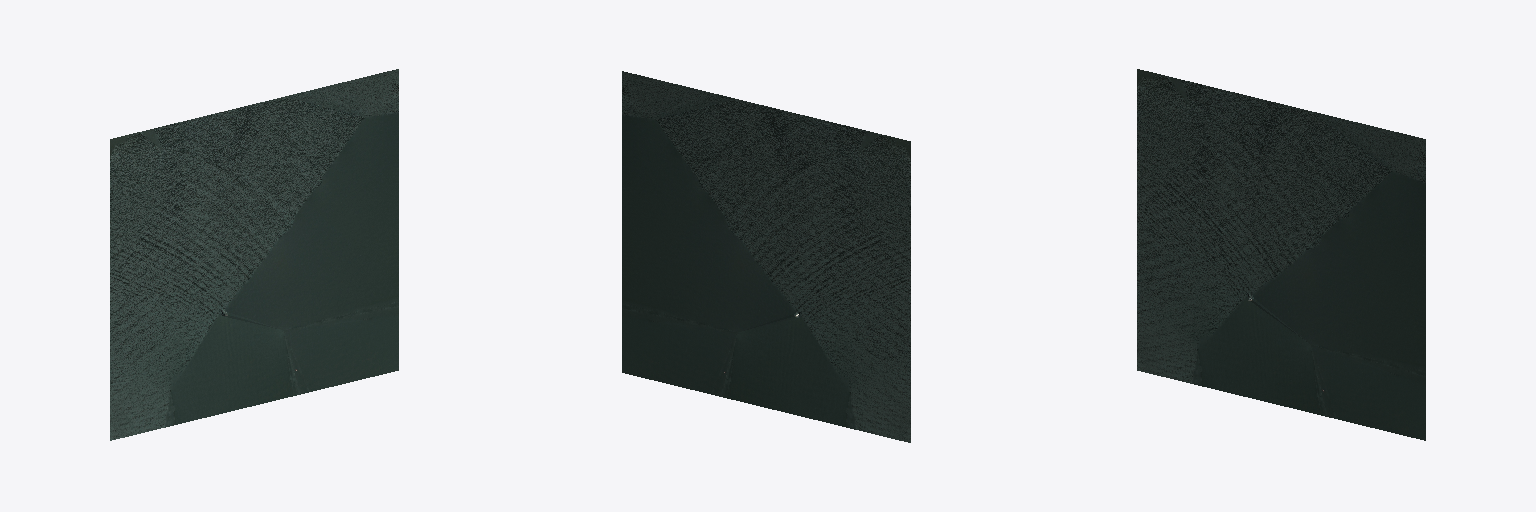
3 views of the same model, side by side, from view 1: azimuth 30°, elevation 25°; view 2: azimuth 150°, elevation 25°; view 3: azimuth 330°, elevation 25° (orthographic).
Bounding box in the file's own units: 252 × 252 × 4.64.
Materials: 2 (1 with a texture image).